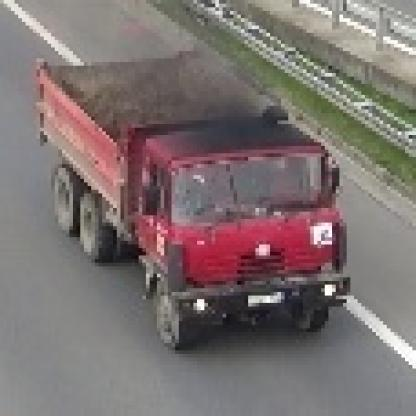truck: (31, 48, 352, 344)
